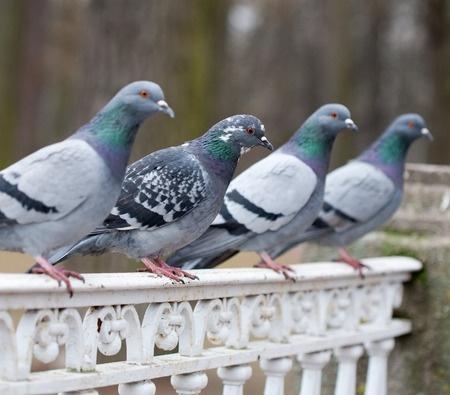Flying Rat: (1, 77, 168, 281), (122, 110, 268, 285), (227, 96, 355, 291), (315, 110, 430, 277)
